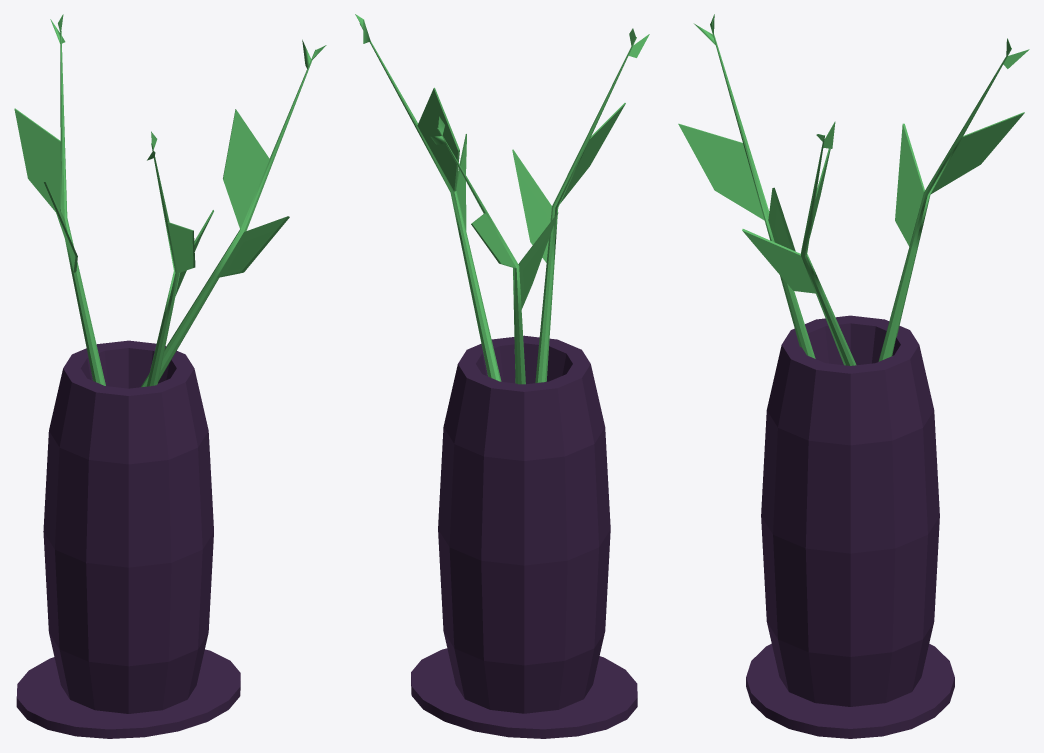
File: Plant Pot_broken.fbx
3 renders of one model, left to right at view 1: azimuth 30°, elevation 25°; view 2: azimuth 150°, elevation 25°; view 3: azimuth 270°, elevation 25°, orthographic. The views are drawn at different scales.
Visible parts, largest first — view 1: branch.003, branch.002, branch.004, branch.001, pasted__branch.001, branch.005, pasted__branch, branch.006; view 2: branch.005, branch.006, branch.002, branch.003, pasted__branch, branch.001, pasted__branch.001, branch.004; view 3: branch.004, branch.006, branch.002, branch.005, pasted__branch.001, branch.003, pasted__branch, branch.001.
Part boxes in pixels (<box>): branch.003: <box>49,373,203,713</box>; branch.002: <box>16,649,240,738</box>; branch.004: <box>128,340,213,685</box>; branch.001: <box>141,69,308,387</box>; pasted__branch.001: <box>14,14,105,385</box>; branch.005: <box>43,340,128,601</box>; pasted__branch: <box>146,131,213,386</box>; branch.006: <box>43,532,57,631</box>; branch.005: <box>440,374,606,599</box>; branch.006: <box>440,541,598,713</box>; branch.002: <box>411,648,637,738</box>; branch.003: <box>546,339,610,710</box>; pasted__branch: <box>512,28,649,382</box>; branch.001: <box>369,41,501,381</box>; pasted__branch.001: <box>431,116,558,384</box>; branch.004: <box>438,335,557,571</box>; branch.004: <box>766,344,915,706</box>; branch.006: <box>826,516,939,706</box>; branch.002: <box>746,644,954,738</box>; branch.005: <box>863,317,939,539</box>; pasted__branch.001: <box>878,38,1029,361</box>; branch.003: <box>761,315,875,701</box>; pasted__branch: <box>678,14,815,358</box>; branch.001: <box>742,148,856,365</box>.
Size of the model in its own units: 25552 by 53604 by 26113.
